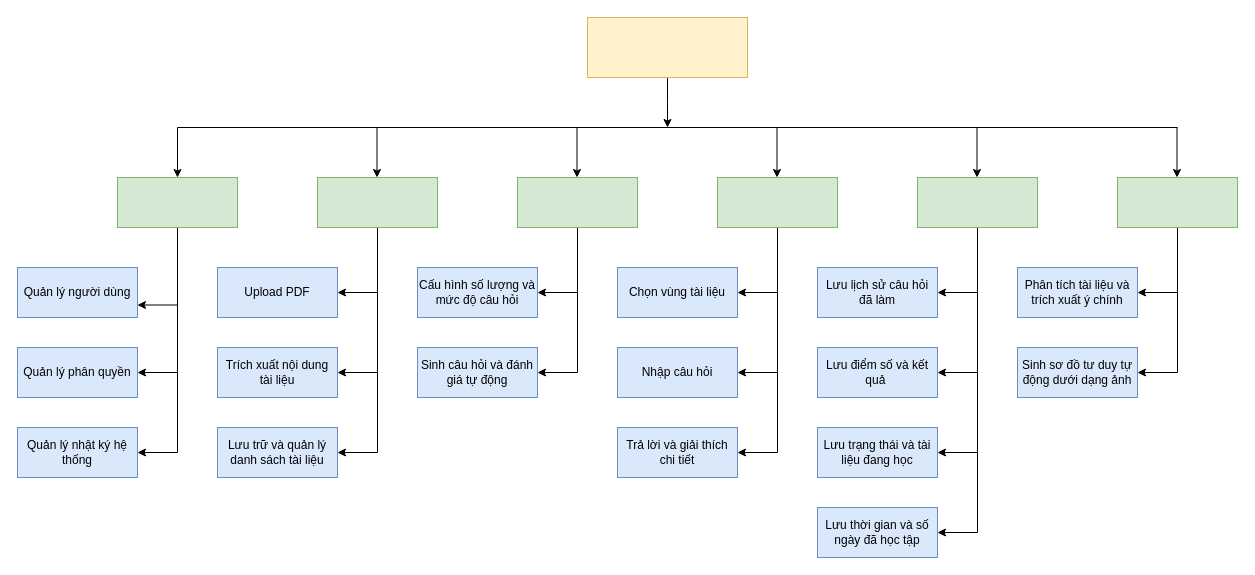
Some shapes in this 1255 by 575 pixel diagram are drawn without their labels. Each missing label, with the centre of its shape:
Hỏi đáp dựa trên tài liệu: point (777, 202)
Quản lý hệ thống học tập: point (667, 47)
Quản lý tiến trình học tập: point (977, 202)
Quản lý tài liệu: point (377, 202)
Quản trị hệ thống: point (177, 202)
Sinh câu hỏi từ tài liệu: point (577, 202)
Tạo sơ đồ tư duy: point (1177, 202)
